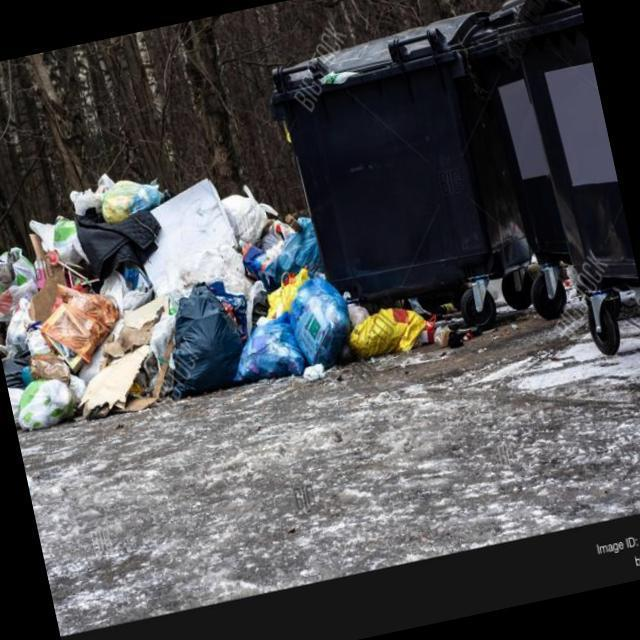garbage: (0, 81, 477, 452), (314, 56, 360, 91), (24, 466, 38, 494)
